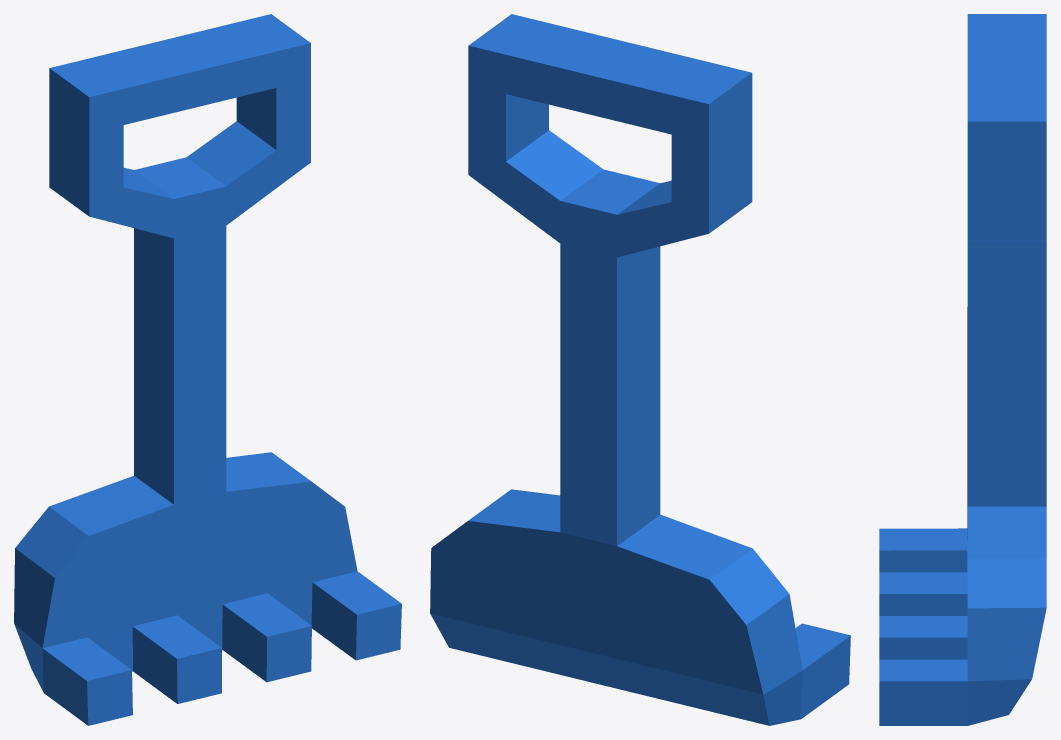
File: Rake_tex.fbx
3 views of the same model, side by side, from view 1: azimuth 30°, elevation 25°; view 2: azimuth 150°, elevation 25°; view 3: azimuth 270°, elevation 25° (orthographic). The views are drawn at different scales.
Parts seen in each view (by area): view 1: Rake_tex; view 2: Rake_tex; view 3: Rake_tex.
Part boxes in pixels (box(x1,y1,x2,y2)): Rake_tex: box(14, 14, 401, 725); Rake_tex: box(430, 14, 850, 725); Rake_tex: box(879, 14, 1046, 725).
Bounding box in the file's own units: 0.2624 × 0.4657 × 0.1214.
